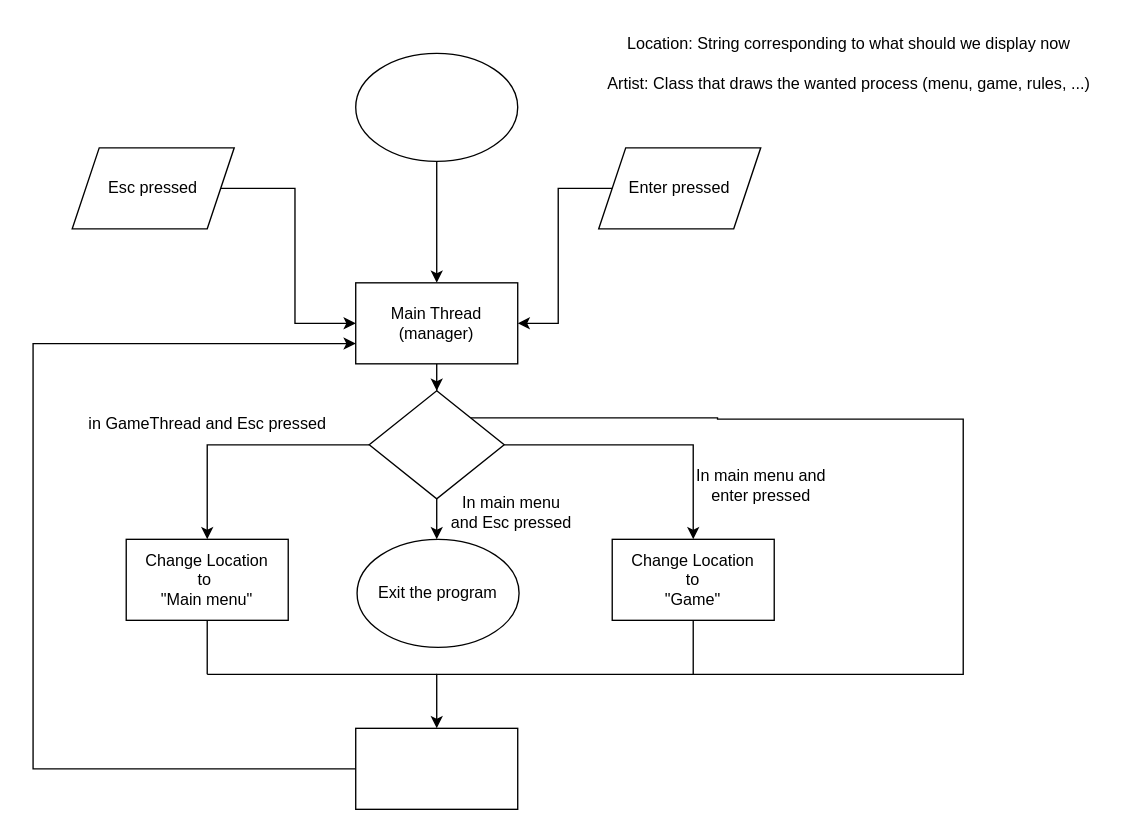
Some shapes in this 1129 by 833 pixel diagram are drawn without their labels. The shapes that lost their labels are listed below. From the top down, each one's centre as x and y in pixels, then its label:
[436,106]: Start
[436,444]: Check buttons
[436,768]: Run Artist of wanted process
